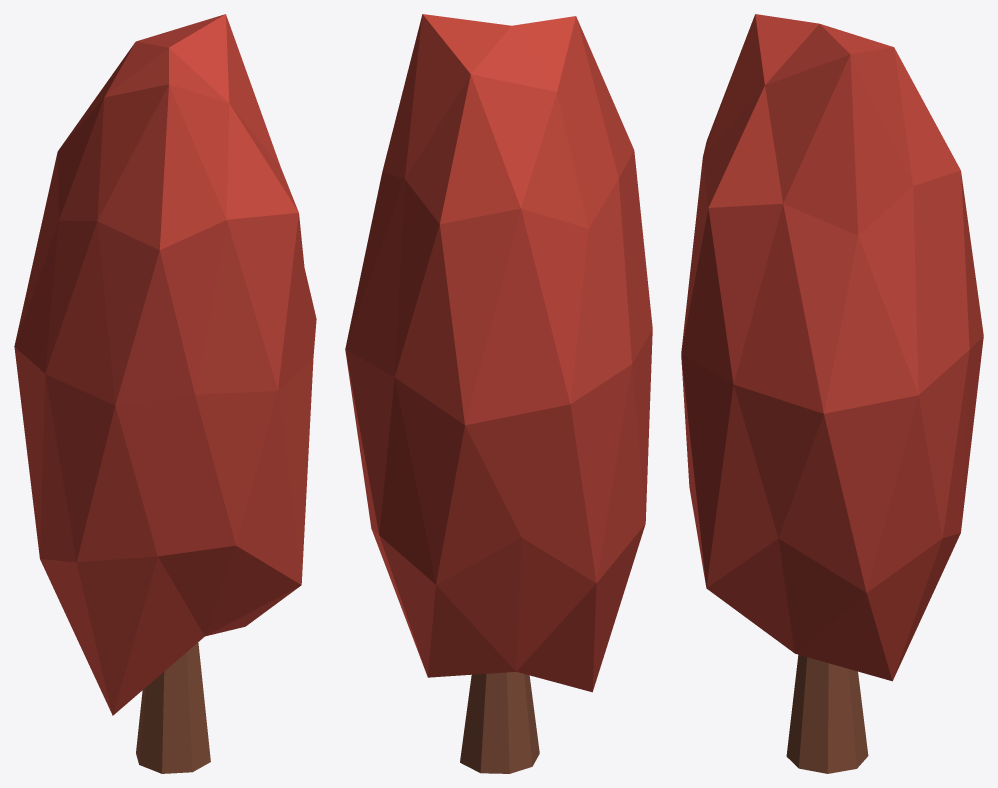
The model's file is Tree_05_summer_red_mat.fbx.
3 renders of one model, left to right at view 1: azimuth 30°, elevation 25°; view 2: azimuth 150°, elevation 25°; view 3: azimuth 270°, elevation 25°, orthographic. The views are drawn at different scales.
Visible parts, largest first — view 1: Tree_05_summer_red_mat; view 2: Tree_05_summer_red_mat; view 3: Tree_05_summer_red_mat.
Part boxes in pixels (left/top/right/bottom): Tree_05_summer_red_mat: left=14, top=14, right=316, bottom=773; Tree_05_summer_red_mat: left=345, top=14, right=652, bottom=773; Tree_05_summer_red_mat: left=681, top=14, right=983, bottom=773.
Bounding box in the file's own units: 104 × 266 × 99.25.
